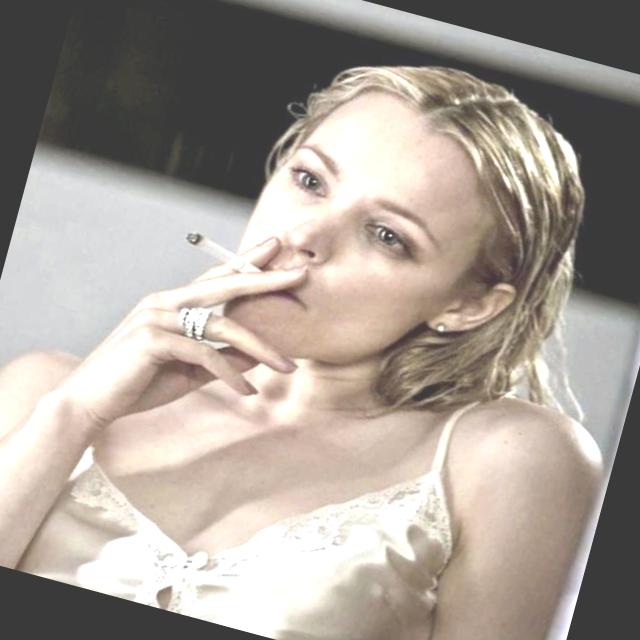smoke: (132, 202, 304, 304)
